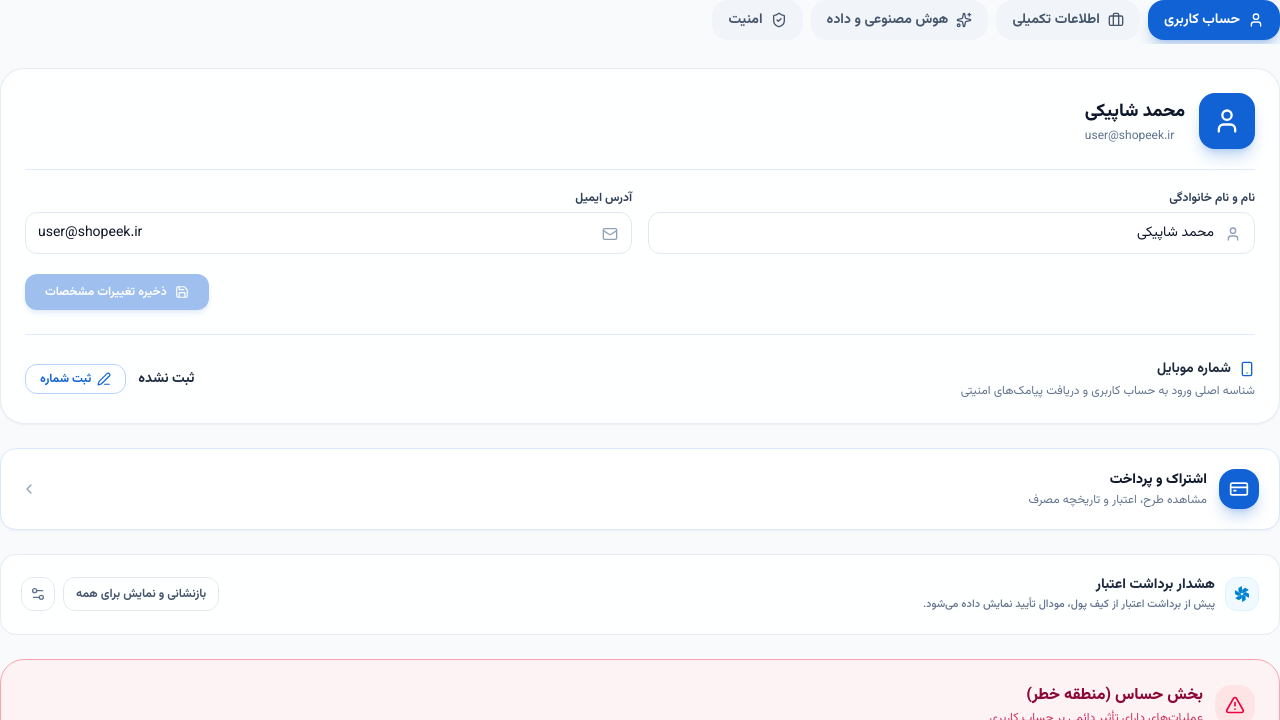
Scenario: [page] SettingsPage Component & Guide Integration › revokes a single web session
expect the heading "محمد شاپیکی" is shown: met, box [1085,98,1185,126]
Click the button "امنیت".
click(758, 20)  # box [712,0,803,40]
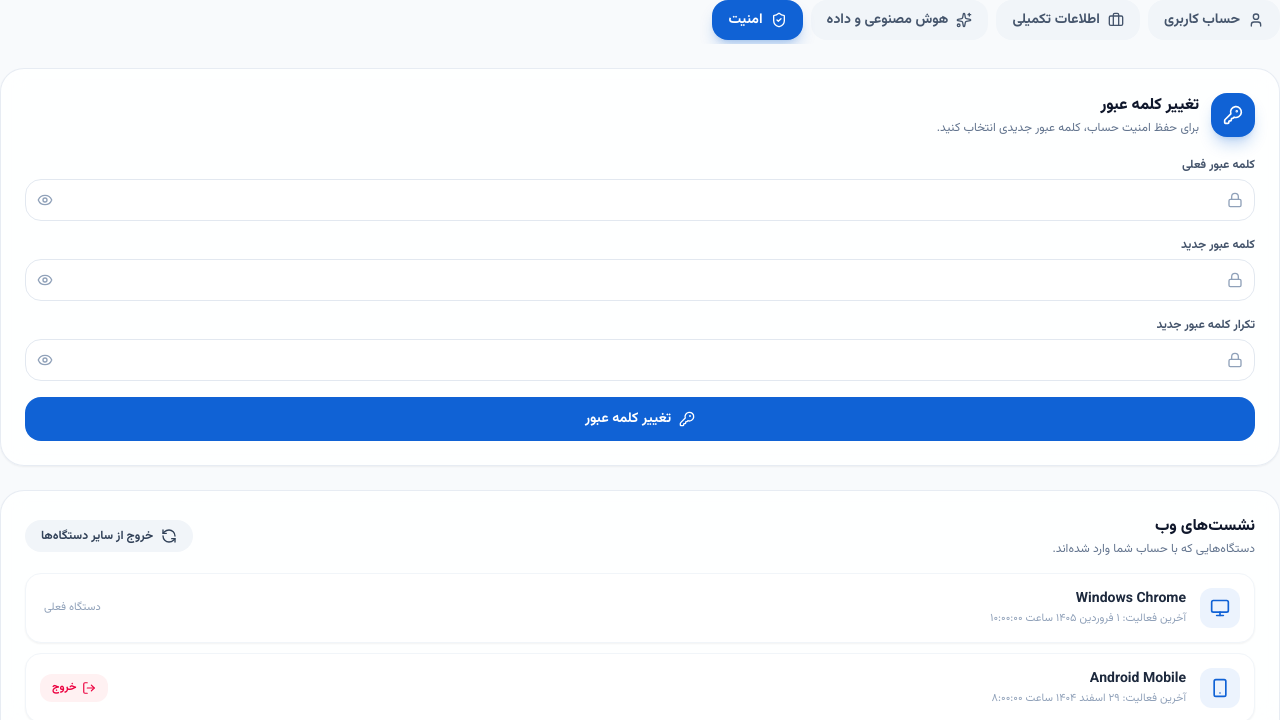
Click the button "خروج".
click(74, 688)  # box [40,674,108,702]
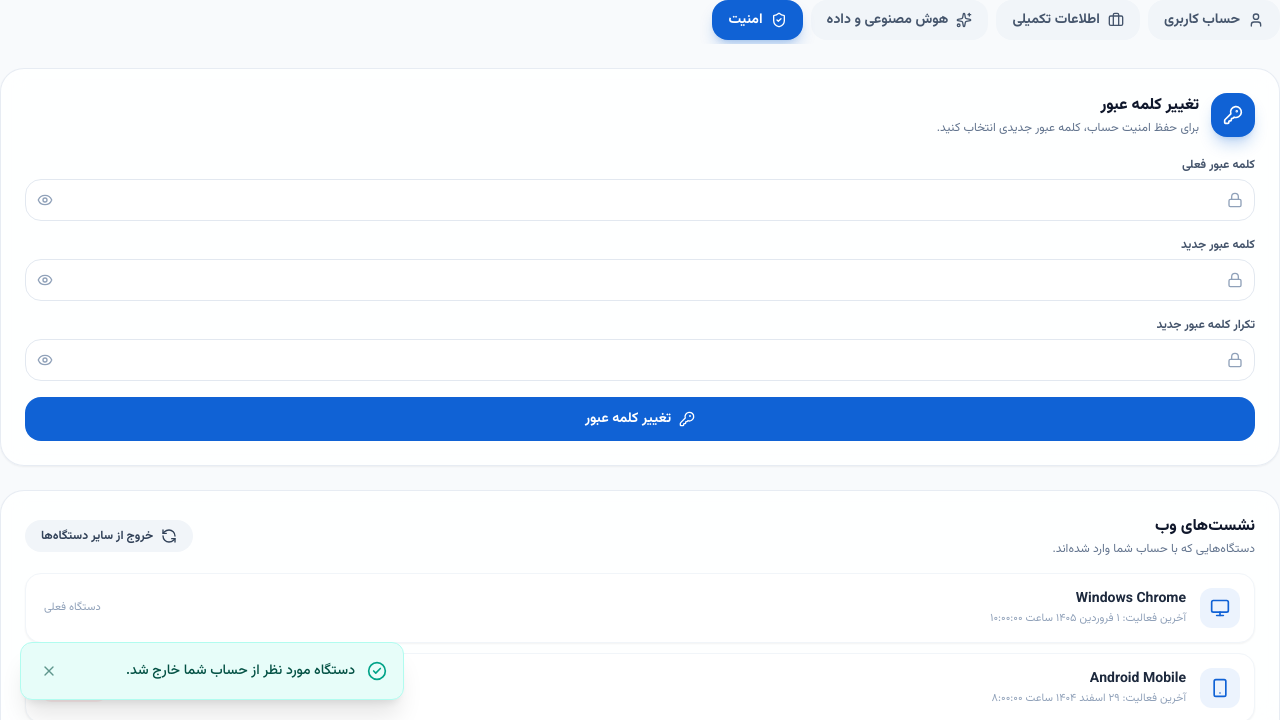
expect the text "دستگاه مورد نظر از حساب شما خارج شد." is shown: met, box [126,661,355,681]
